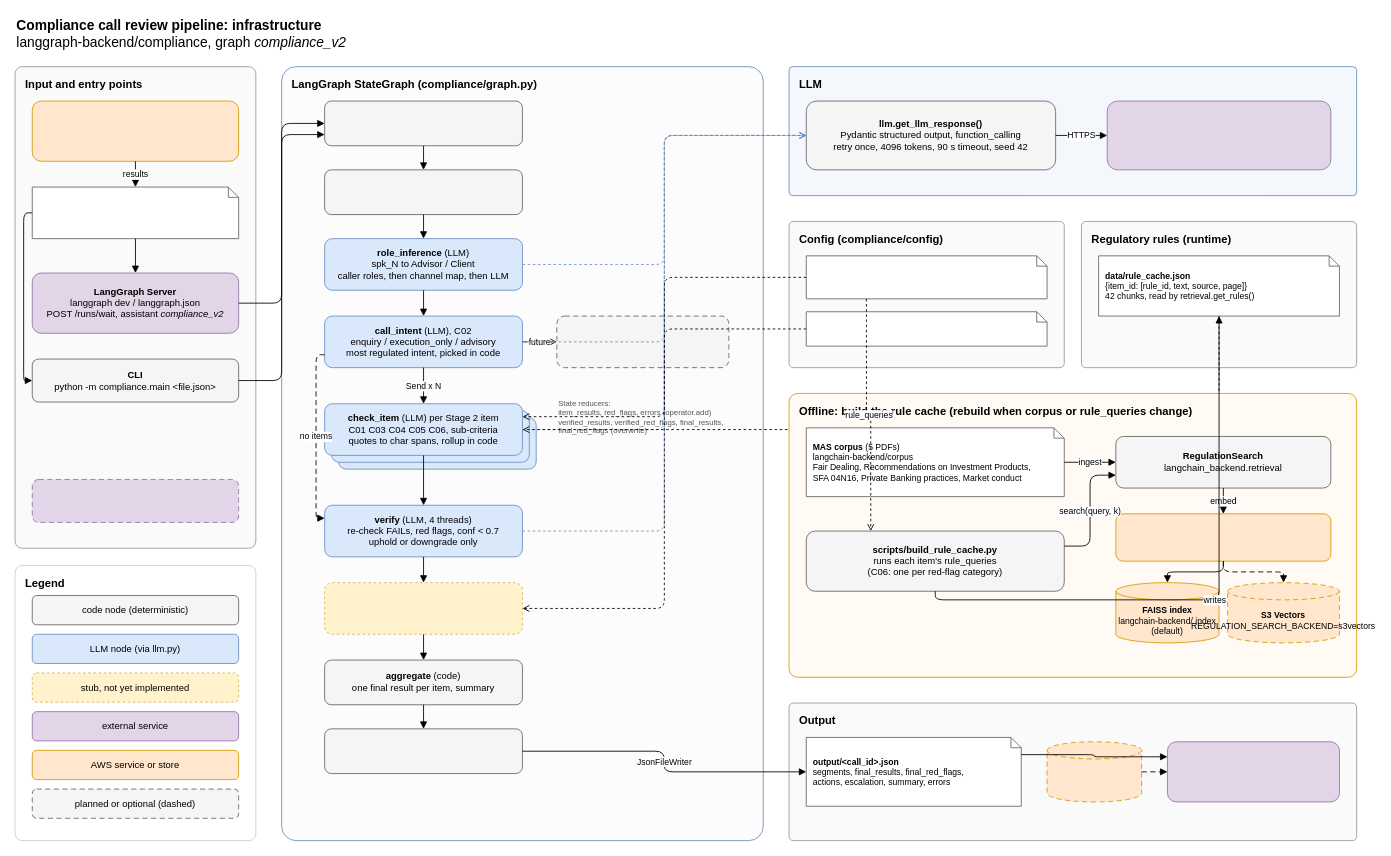
Some shapes in this 1391 by 856 pixel diagram are drawn without their labels. The shapes that lost their labels are listed below. From the top down, each one's centre as x and y in pixels, then its label:
the point at 135,130: AWS Transcribe job output (JSON) items, speaker_labels, audio_segments
the point at 423,123: ingest (code) words to one segment per speaker turn seg_0001..., transcript
the point at 1218,135: Google Gemini API gemini-3.6-flash GOOGLE_API_KEY (.env)
the point at 135,212: Request body { results, checklist?, speaker_roles?, call_id? }
the point at 423,192: quality_check (code) short_call, low_confidence, single_speaker
the point at 926,277: checklist.yaml items, applies_when, sub_criteria (absence), rule_queries
the point at 642,341: gate (code) applies_when to NOT_APPLICABLE implemented, not wired in
the point at 926,328: escalation_rules.yaml , ownership.yaml
the point at 135,500: LangSmith (optional) tracing via LANGSMITH_* env
the point at 1223,537: Amazon Bedrock cohere.embed-english-v3, ap-southeast-1
the point at 423,608: decide , C07 to C09 escalation rules, actions, owner stub
the point at 423,751: output (code) ResultWriter (COMPLIANCE_WRITER)
the point at 1094,771: PostgreSQL (planned)
the point at 1253,771: Compliance dashboard evidence = {segment_id, start_char, end_char}
